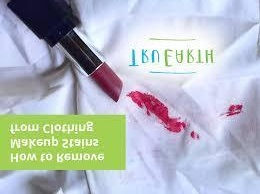lipstick: (151, 109, 188, 134), (136, 90, 169, 116), (218, 97, 244, 117), (127, 91, 159, 107), (187, 128, 202, 143)
